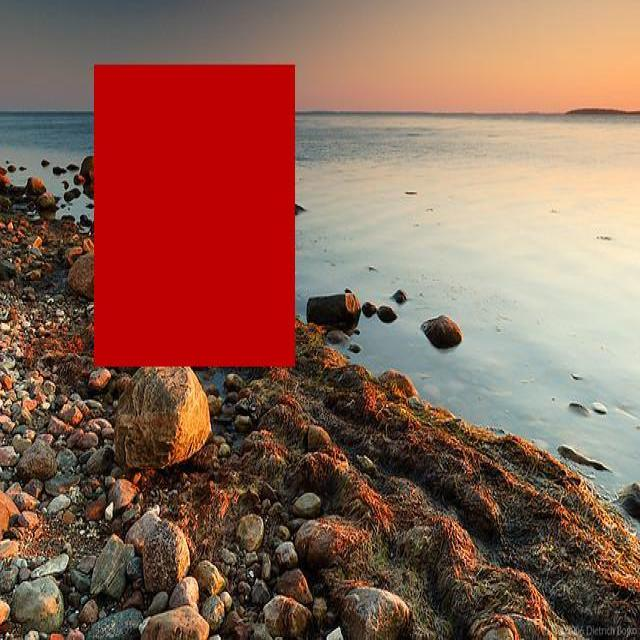RedSquare: (90, 59, 300, 374)
